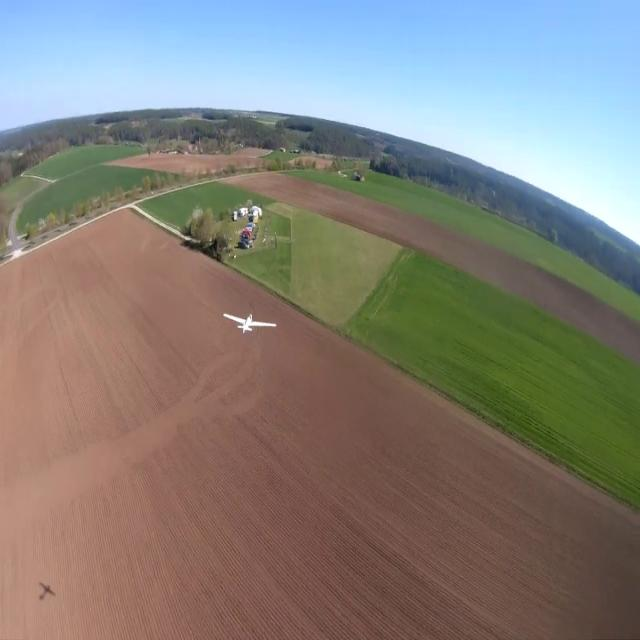iha: (222, 308, 278, 330)
